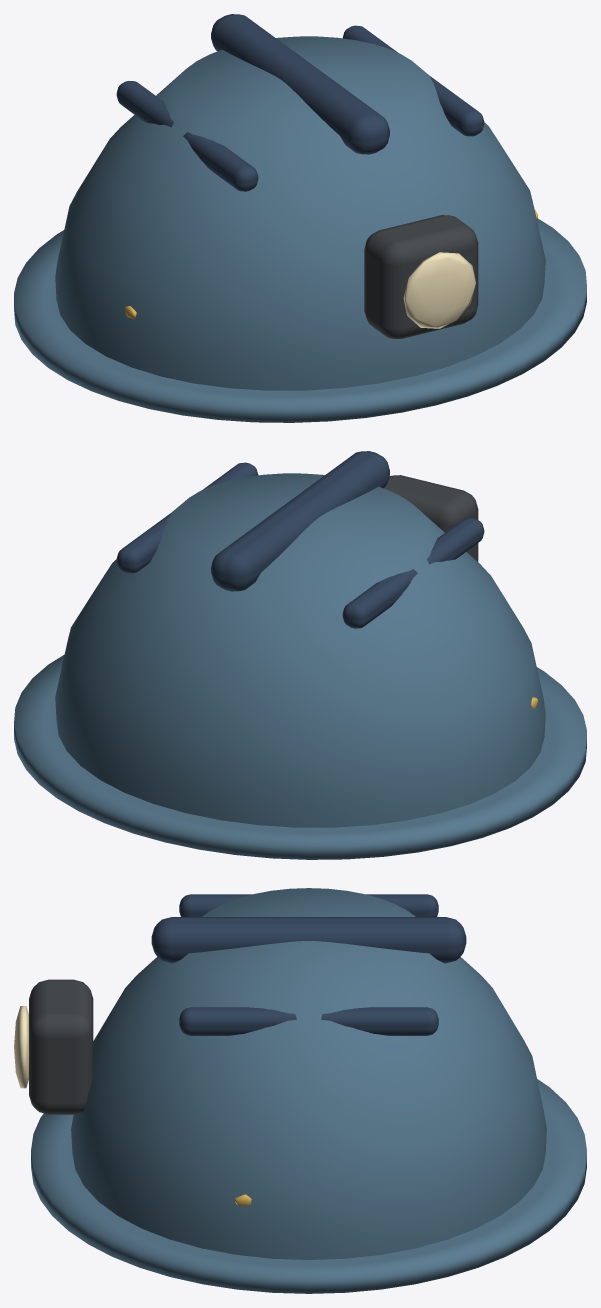
Rendered from 12-night-shift-miner.glb.
3 renders of one model, top to bottom at view 1: azimuth 30°, elevation 25°; view 2: azimuth 150°, elevation 25°; view 3: azimuth 270°, elevation 25°, orthographic. The views are drawn at different scales.
Visible parts, largest first — view 1: Hat12_Crown1, Hat12_Brim2, Hat12_LampHousing6, Hat12_TopRidge3, Hat12_RoundDetail7, Hat12_ShellRib4, Hat12_ShellRib5; view 2: Hat12_Crown1, Hat12_Brim2, Hat12_TopRidge3, Hat12_ShellRib4, Hat12_LampHousing6, Hat12_ShellRib5; view 3: Hat12_Crown1, Hat12_Brim2, Hat12_TopRidge3, Hat12_LampHousing6, Hat12_ShellRib5, Hat12_ShellRib4, Hat12_RoundDetail7.
Part boxes in pixels (x1,y1,x2,y2): Hat12_Crown1: (55, 36, 545, 390); Hat12_Brim2: (14, 218, 586, 422); Hat12_LampHousing6: (364, 215, 478, 338); Hat12_TopRidge3: (211, 14, 389, 154); Hat12_RoundDetail7: (403, 252, 475, 328); Hat12_ShellRib4: (116, 81, 258, 191); Hat12_ShellRib5: (342, 25, 484, 136); Hat12_Crown1: (55, 473, 545, 827); Hat12_Brim2: (14, 654, 586, 859); Hat12_TopRidge3: (211, 451, 389, 591); Hat12_ShellRib4: (342, 518, 484, 628); Hat12_LampHousing6: (383, 475, 478, 561); Hat12_ShellRib5: (116, 462, 258, 573); Hat12_Crown1: (71, 888, 546, 1259); Hat12_Brim2: (31, 1079, 586, 1293); Hat12_TopRidge3: (151, 917, 466, 963); Hat12_LampHousing6: (29, 979, 93, 1114); Hat12_ShellRib5: (179, 1007, 438, 1035); Hat12_ShellRib4: (179, 894, 438, 916); Hat12_RoundDetail7: (14, 1006, 28, 1088).
Bounding box in the file's own units: 0.76 × 0.3575 × 0.7284.
